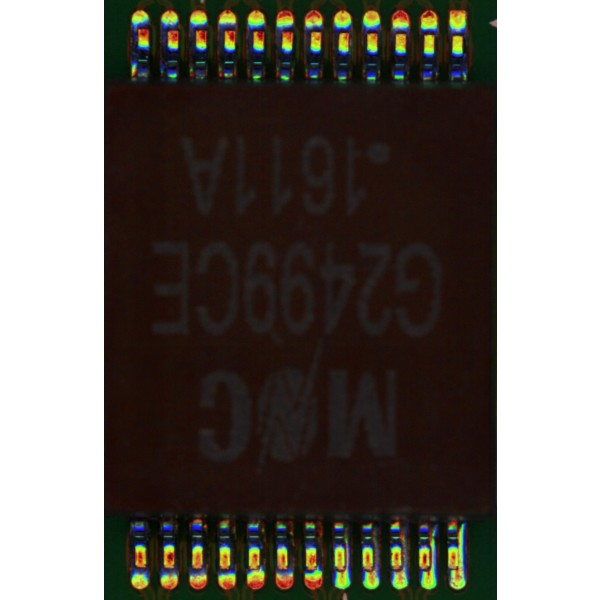Bad_podu: (422, 558, 432, 576), (393, 560, 402, 578), (365, 561, 374, 578), (451, 560, 460, 577), (337, 563, 345, 576)
Bad_qiaojiao: (459, 524, 466, 570), (431, 526, 438, 571), (345, 530, 350, 570)
